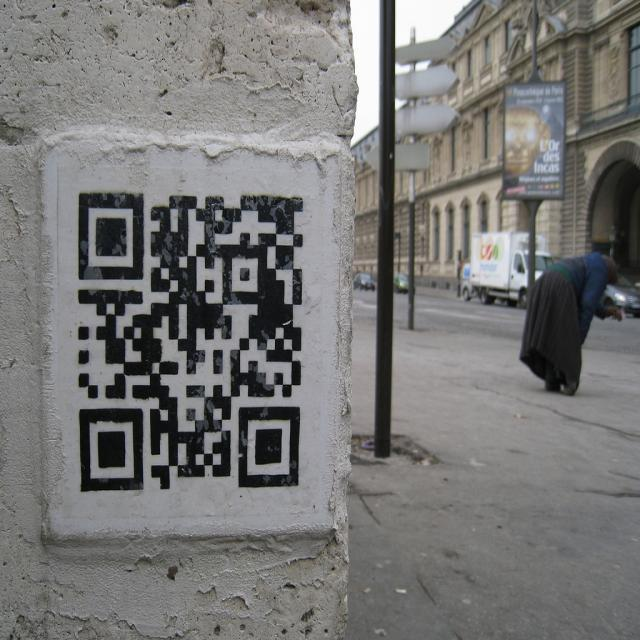qr-code: (78, 192, 303, 491)
